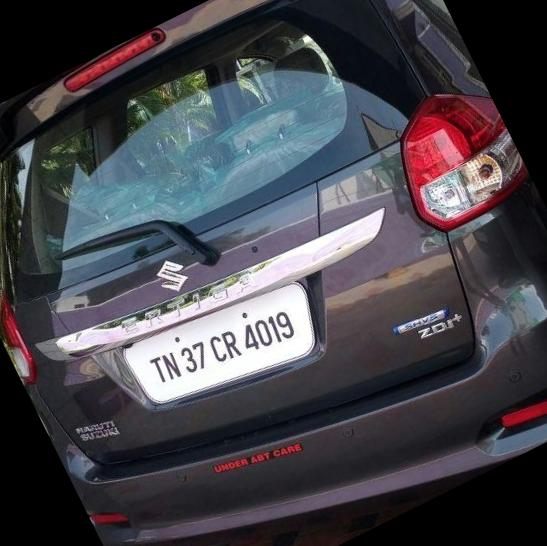plate: (102, 243, 340, 438)
